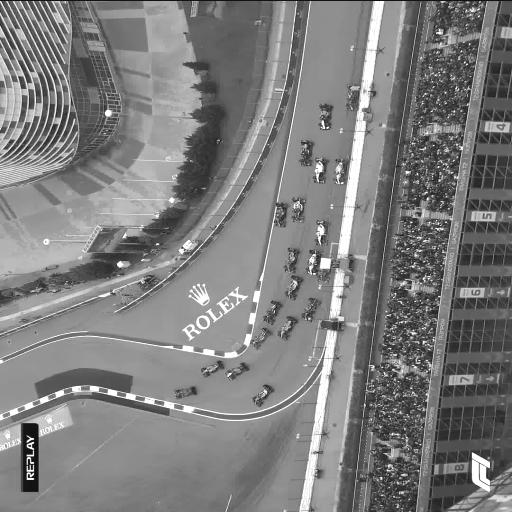f1_car: (277, 315, 297, 339), (262, 300, 282, 324), (249, 327, 270, 349), (252, 384, 273, 406), (301, 297, 320, 321), (285, 275, 302, 300), (304, 249, 320, 275), (332, 157, 348, 183), (225, 362, 248, 380), (283, 247, 299, 272), (312, 157, 327, 183), (346, 83, 360, 110), (201, 360, 223, 377), (314, 219, 328, 245), (319, 102, 332, 129), (291, 197, 305, 222), (274, 202, 288, 227), (299, 140, 312, 166), (174, 386, 195, 397), (317, 269, 329, 282)
